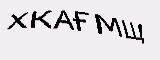А: (55, 6, 75, 32)
К: (30, 7, 52, 29)
М: (94, 10, 123, 36)
Х: (7, 11, 30, 30)
Щ: (120, 17, 148, 45)
Ғ: (72, 6, 89, 33)
